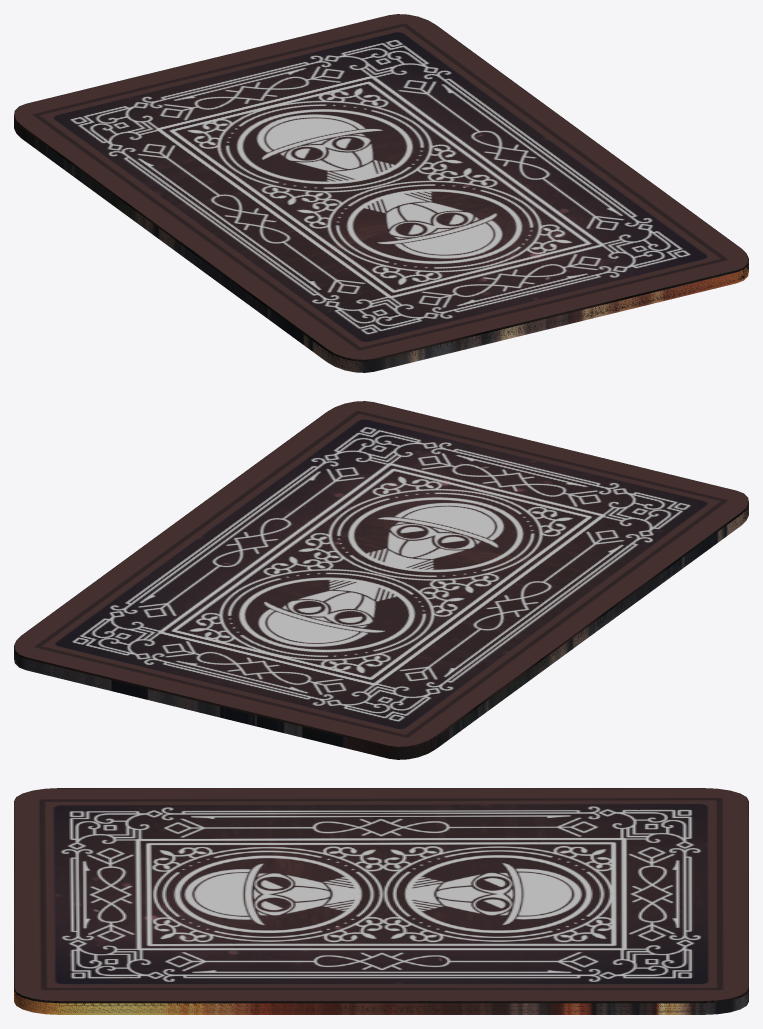
File: knightof_wands_tarot.glb
The picture shows the model from 3 angles, top to bottom: view 1: azimuth 30°, elevation 25°; view 2: azimuth 150°, elevation 25°; view 3: azimuth 270°, elevation 25°; orthographic projection. The views are drawn at different scales.
Visible parts, largest first — view 1: Plane.002, Plane.001; view 2: Plane.002, Plane.001; view 3: Plane.002, Plane.001.
Boxes of the visible parts, left/top/right/bottom form: Plane.002: left=14, top=14, right=748, bottom=370; Plane.001: left=14, top=118, right=748, bottom=372; Plane.002: left=14, top=401, right=748, bottom=756; Plane.001: left=14, top=505, right=748, bottom=759; Plane.002: left=14, top=788, right=748, bottom=1012; Plane.001: left=14, top=990, right=748, bottom=1014.
Size of the model in its own units: 2.28 by 0.0684 by 3.32.
2 materials, 2 textured.
